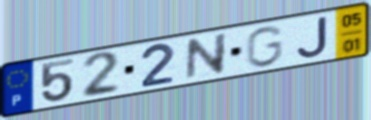2: (80, 50, 122, 101), (138, 41, 179, 90)
5: (38, 58, 77, 105)
G: (244, 24, 286, 69)
J: (295, 14, 329, 60)
N: (183, 31, 230, 83)
